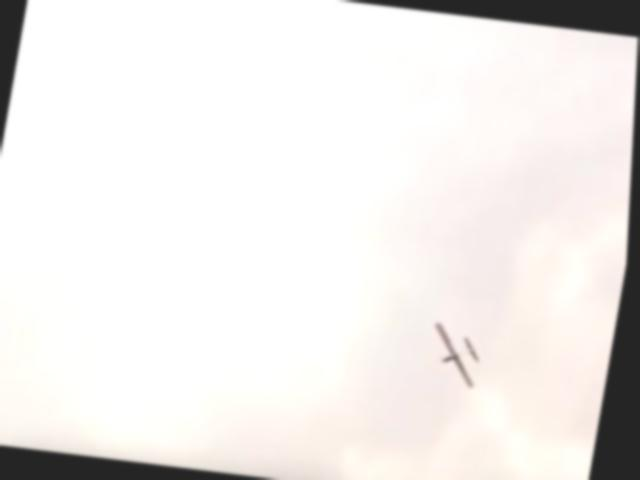uav: (429, 320, 491, 387)
